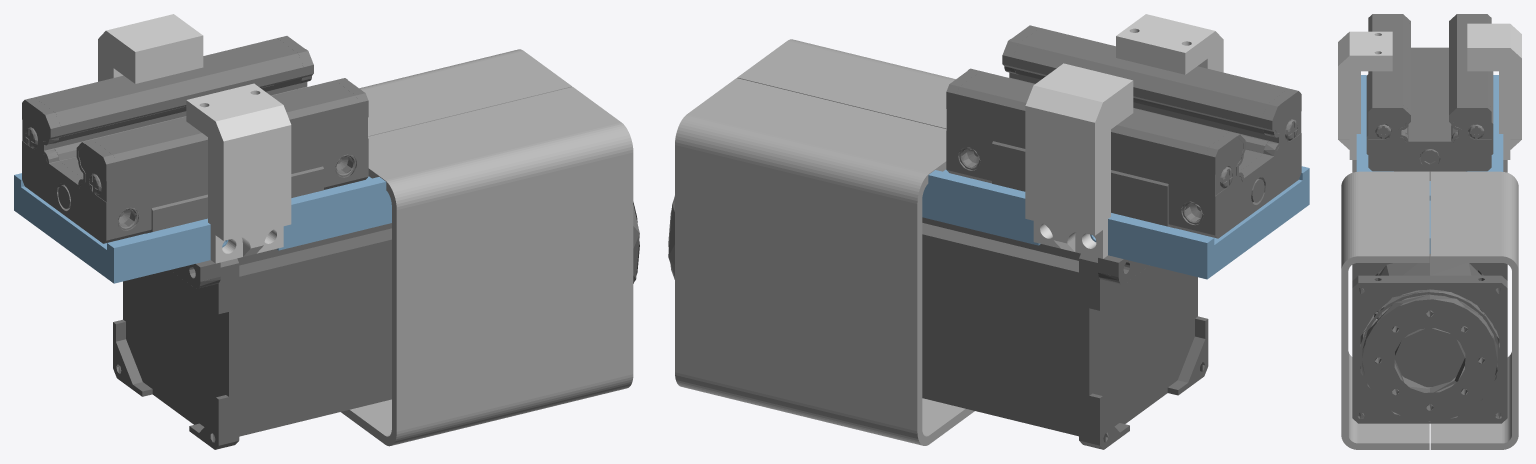
Rendered from manipulator_base.dae.
The picture shows the model from 3 angles, left to right: view 1: azimuth 30°, elevation 25°; view 2: azimuth 150°, elevation 25°; view 3: azimuth 270°, elevation 25°; orthographic projection. The views are drawn at different scales.
Parts seen in each view (by area): view 1: Untitled, Untitled_013, Untitled_004, Untitled_014, Untitled_011, Untitled_012, Untitled_002, Untitled_001; view 2: Untitled_012, Untitled_013, Untitled_004, Untitled_002, Untitled_011, Untitled, Untitled_014, Untitled_001; view 3: Untitled_013, Untitled_004, Untitled, Untitled_012, Untitled_002, Untitled_014, Untitled_011.
Boxes of the visible parts, <box> form: Untitled: <box>341,87,633,446</box>; Untitled_013: <box>113,202,639,449</box>; Untitled_004: <box>22,36,368,243</box>; Untitled_014: <box>186,83,291,263</box>; Untitled_011: <box>14,173,391,283</box>; Untitled_012: <box>359,49,572,136</box>; Untitled_002: <box>98,14,203,83</box>; Untitled_001: <box>170,260,220,288</box>; Untitled_012: <box>675,78,974,445</box>; Untitled_013: <box>668,196,1208,449</box>; Untitled_004: <box>946,25,1301,238</box>; Untitled_002: <box>1025,63,1133,258</box>; Untitled_011: <box>922,166,1309,279</box>; Untitled: <box>737,39,955,128</box>; Untitled_014: <box>1116,14,1223,74</box>; Untitled_001: <box>1098,255,1149,284</box>; Untitled_013: <box>1352,160,1507,423</box>; Untitled_004: <box>1366,14,1493,171</box>; Untitled: <box>1341,171,1429,449</box>; Untitled_012: <box>1430,171,1518,449</box>; Untitled_002: <box>1467,23,1521,159</box>; Untitled_014: <box>1338,31,1392,159</box>; Untitled_011: <box>1356,75,1503,253</box>.
Size of the model in its own units: 0.1568 by 0.064 by 0.1072.
